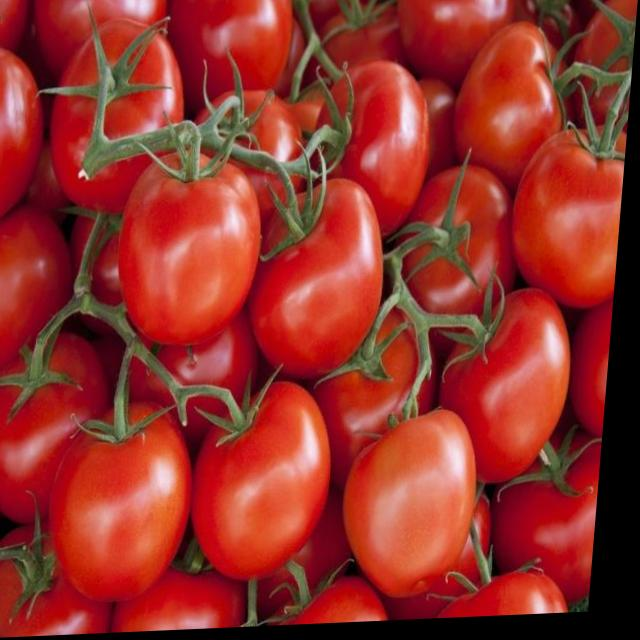kirmizi: (34, 27, 609, 504)
